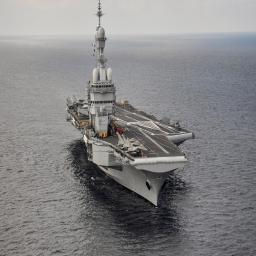Portanaves: (65, 1, 197, 213)
